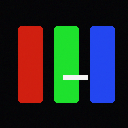3 line_h: (63, 75, 87, 79)
